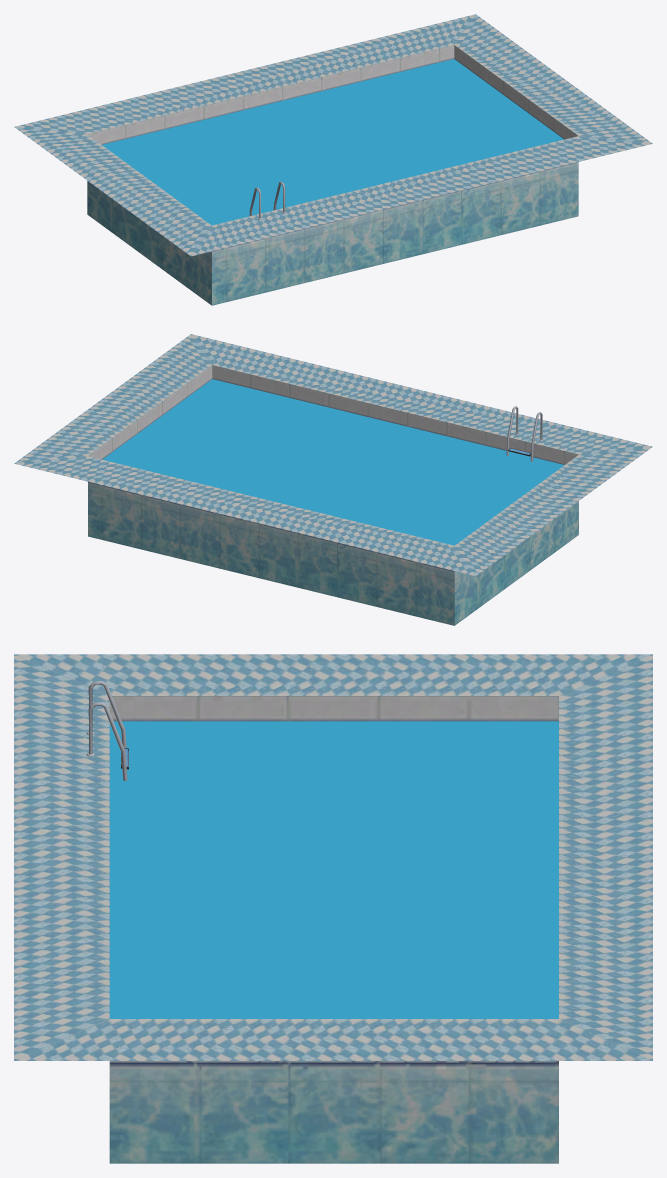
Rendered from furni_0200931.FBX.
3 views of the same model, one above another, from view 1: azimuth 30°, elevation 25°; view 2: azimuth 150°, elevation 25°; view 3: azimuth 270°, elevation 25° (orthographic). The views are drawn at different scales.
Visible parts, largest first — view 1: furni_0200931; view 2: furni_0200931; view 3: furni_0200931.
Part boxes in pixels (<box>): furni_0200931: <box>14,14,652,305</box>; furni_0200931: <box>14,334,652,625</box>; furni_0200931: <box>14,654,652,1163</box>.
Size of the model in its own units: 1205 by 273 by 800.
3 materials, 3 textured.
